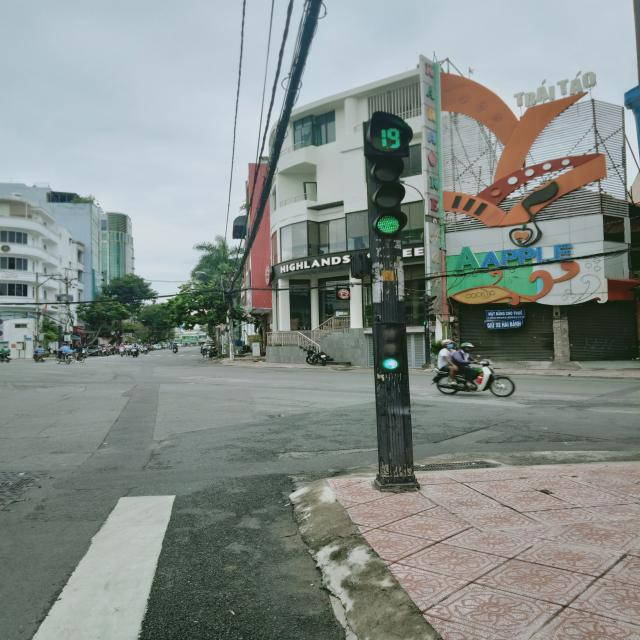Green: (360, 152, 410, 241), (372, 318, 410, 376)
